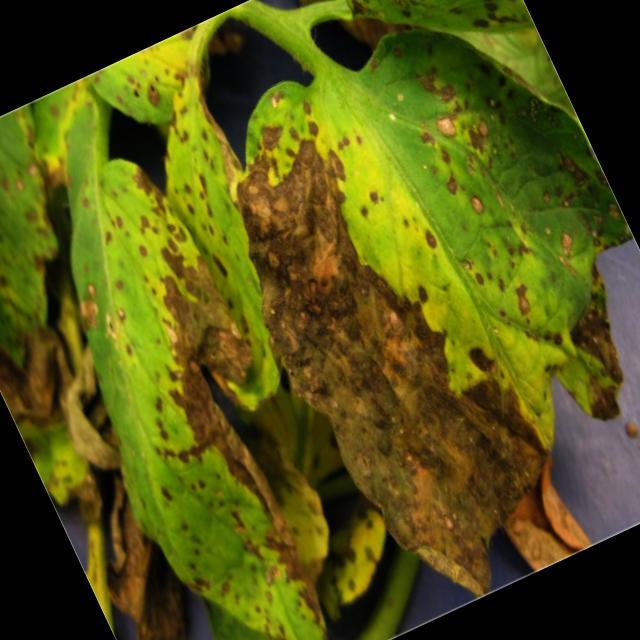Tomato Septoria spot leaf: (169, 0, 640, 632), (0, 100, 386, 640), (82, 31, 346, 426), (0, 102, 131, 382)
